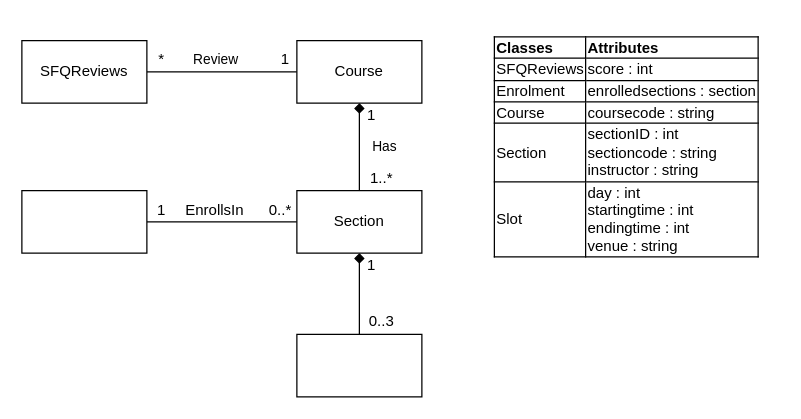
The diagram is 801 pixels wide and 419 high, and some of its shapes have lost their labels. The centre of each missing label's shape, as x and y in pixels:
Enrolment: the point at 84,221
Slot: the point at 359,365
